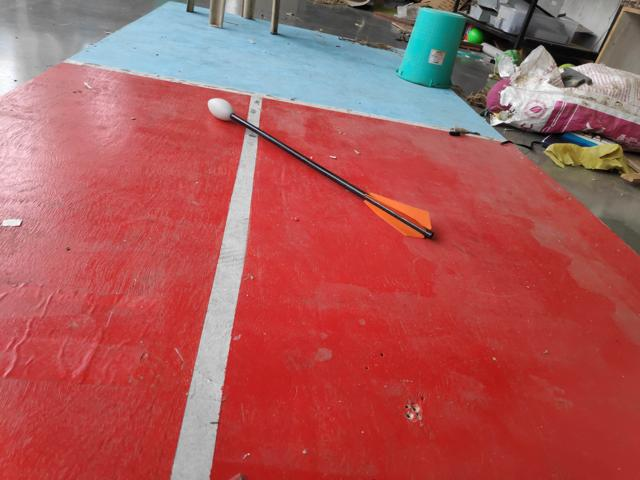Head: (205, 97, 237, 124)
Tail: (359, 190, 437, 244)
